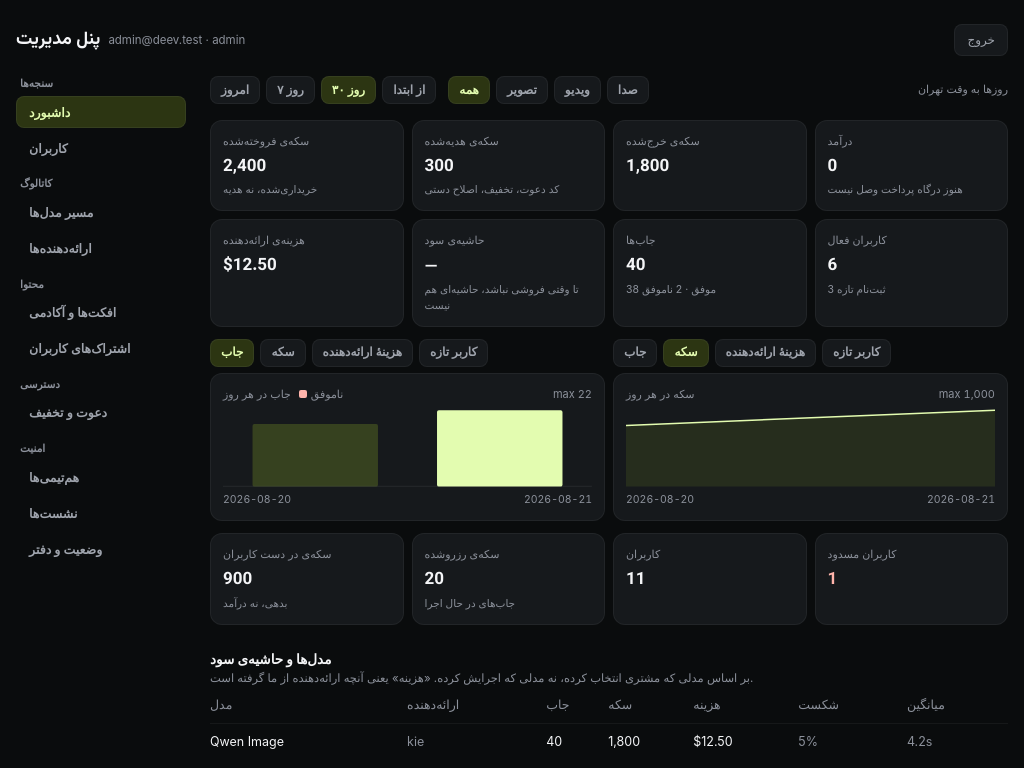
Test: the admin console › names the key a provider wants without ever holding its value
Check: the heading "پنل مدیریت" is shown, box [16,27,100,55]
Click the button "ارائه‌دهنده‌ها" at (101, 248), box [16,232,186,264]
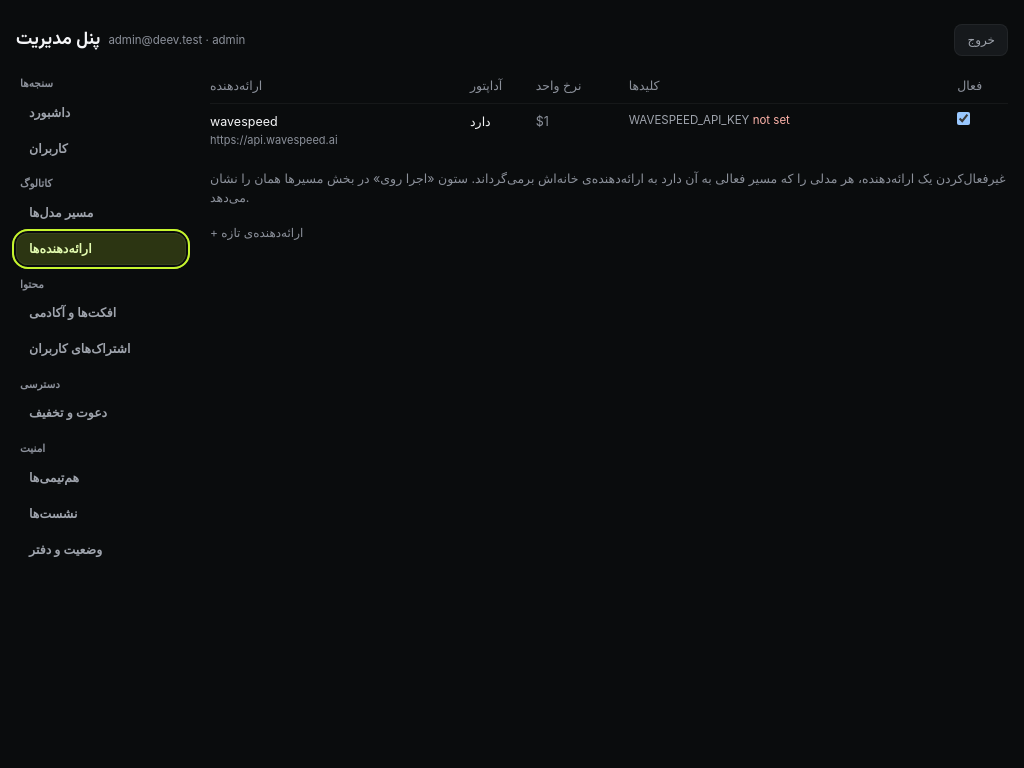
Check: the text "WAVESPEED_API_KEY" is shown, box [629,113,750,127]
Check: the text "not set" is shown, box [753,113,790,127]
